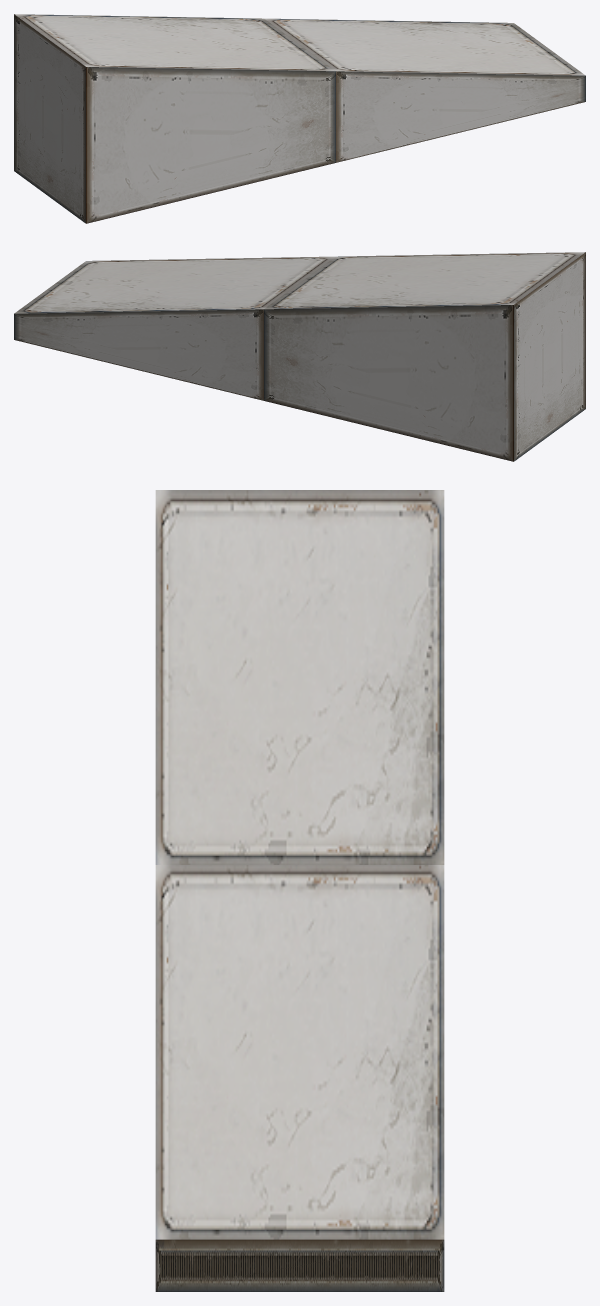
Rendered from scifi_ramp2_edge.FBX.
The picture shows the model from 3 angles, top to bottom: view 1: azimuth 30°, elevation 25°; view 2: azimuth 150°, elevation 25°; view 3: azimuth 270°, elevation 25°; orthographic projection. The views are drawn at different scales.
Parts seen in each view (by area): view 1: Plane184; view 2: Plane184; view 3: Plane184.
Part boxes in pixels (x1,y1,x2,y2): Plane184: [14, 14, 585, 223]; Plane184: [14, 252, 585, 461]; Plane184: [155, 490, 444, 1291].
Size of the model in its own units: 508 by 152 by 127.
